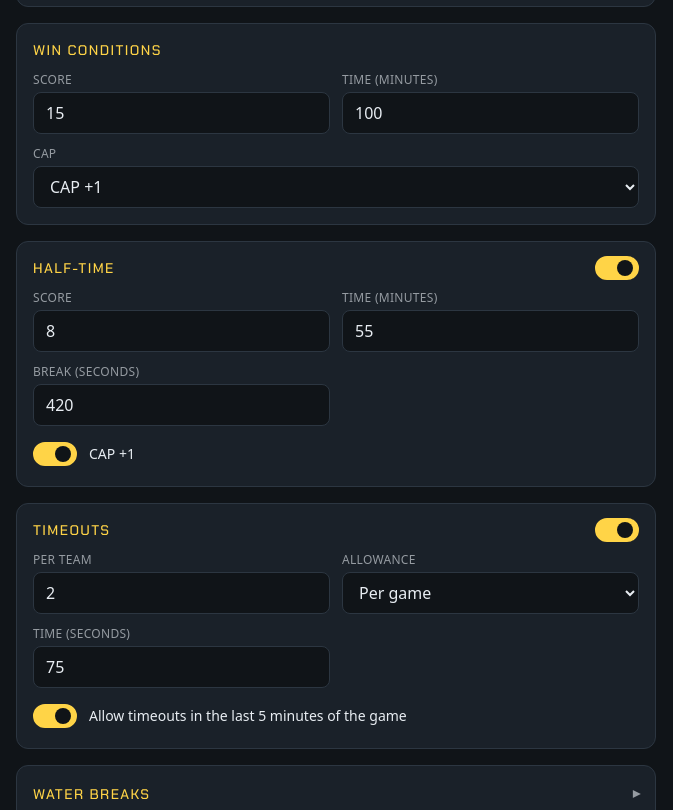
Test: config screen numeric fields › lets a value be cleared and retyped, clamping only on blur
(page scrolled)
Clear the field below "break (seconds)". click: [182, 405]
box: [33,384,330,426]
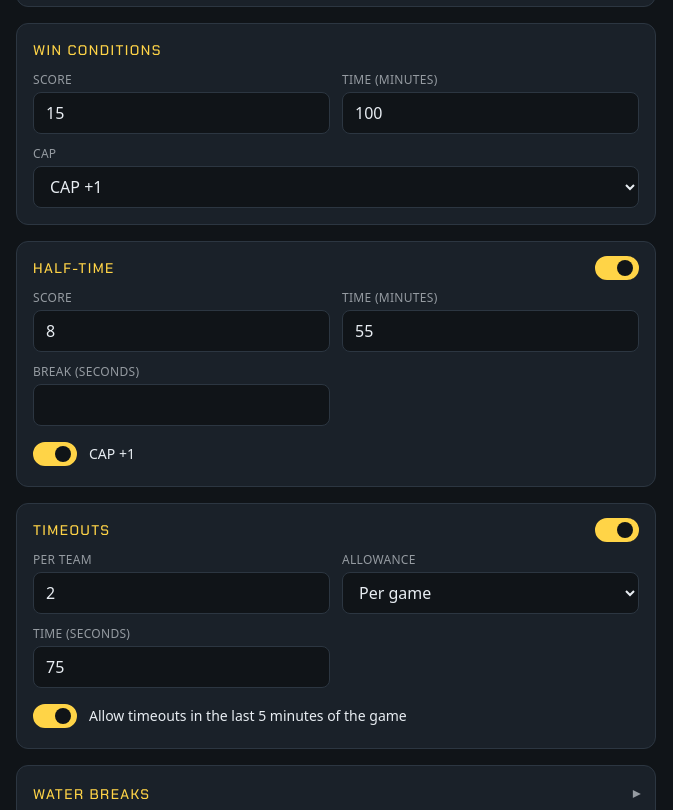
Note: 9999 is over the 1800 maximum — it stays typed until the field loses focus.
Type "9999" into the field below "break (seconds)". click: [182, 405]
box: [33,384,330,426]
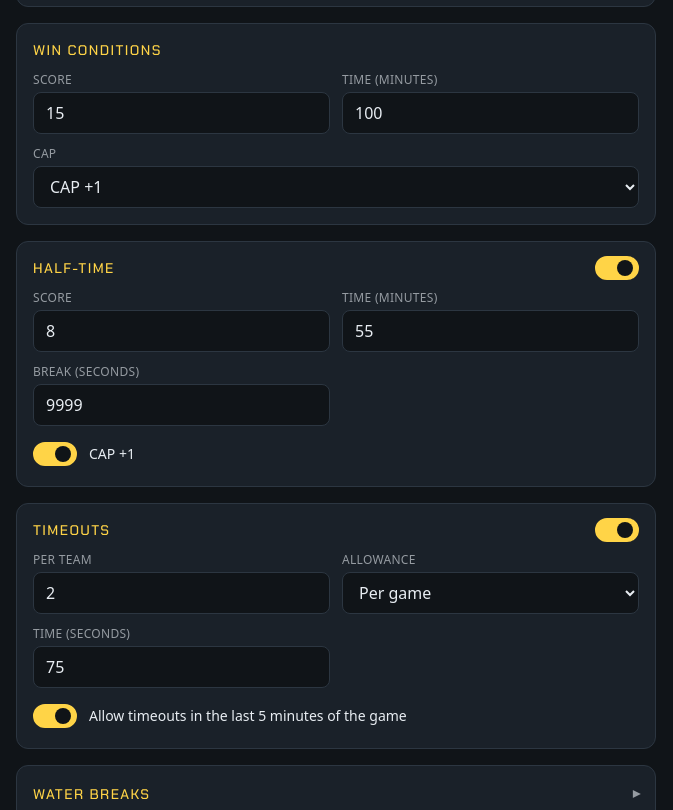
Leave the field below "break (seconds)", box [33,384,330,426]
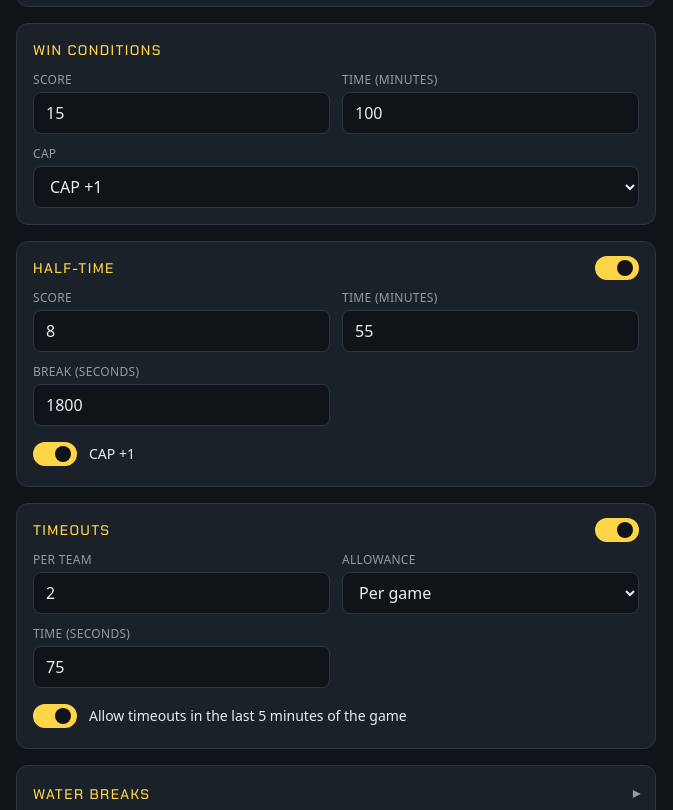
Expected: the field below "break (seconds)" holds "1800", [33,384,330,426]
